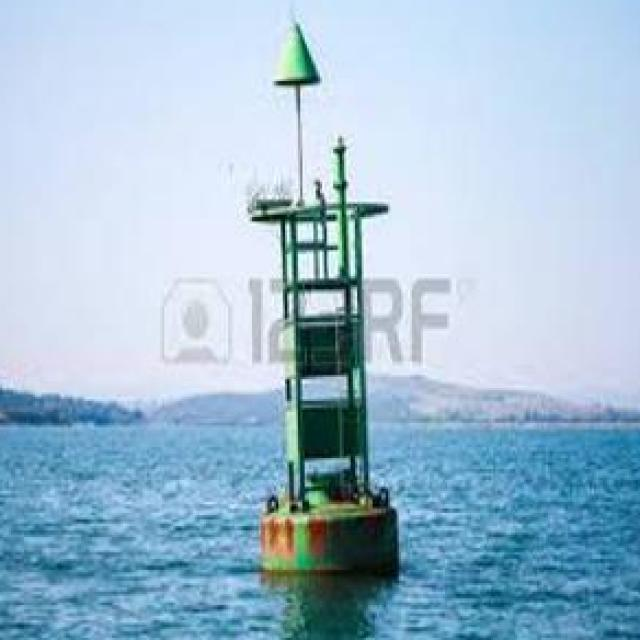buoy: (229, 20, 418, 575)
